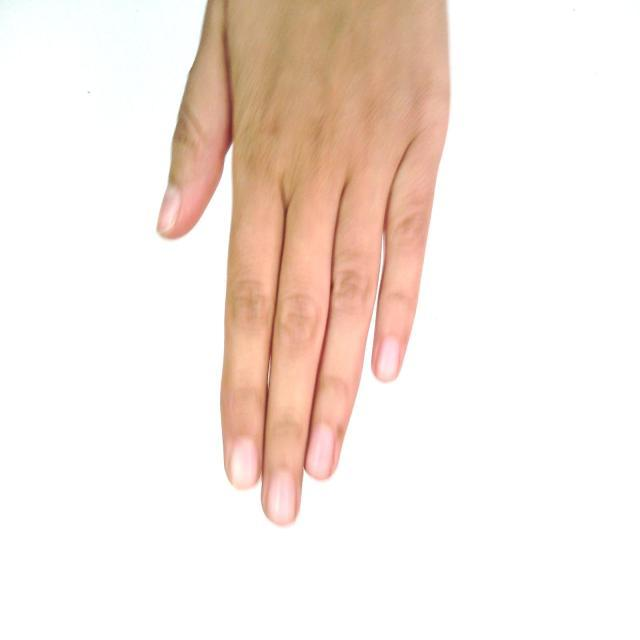Fingernail: (229, 438, 260, 487), (308, 423, 335, 477), (268, 472, 295, 524), (157, 183, 183, 233), (375, 337, 400, 380)
